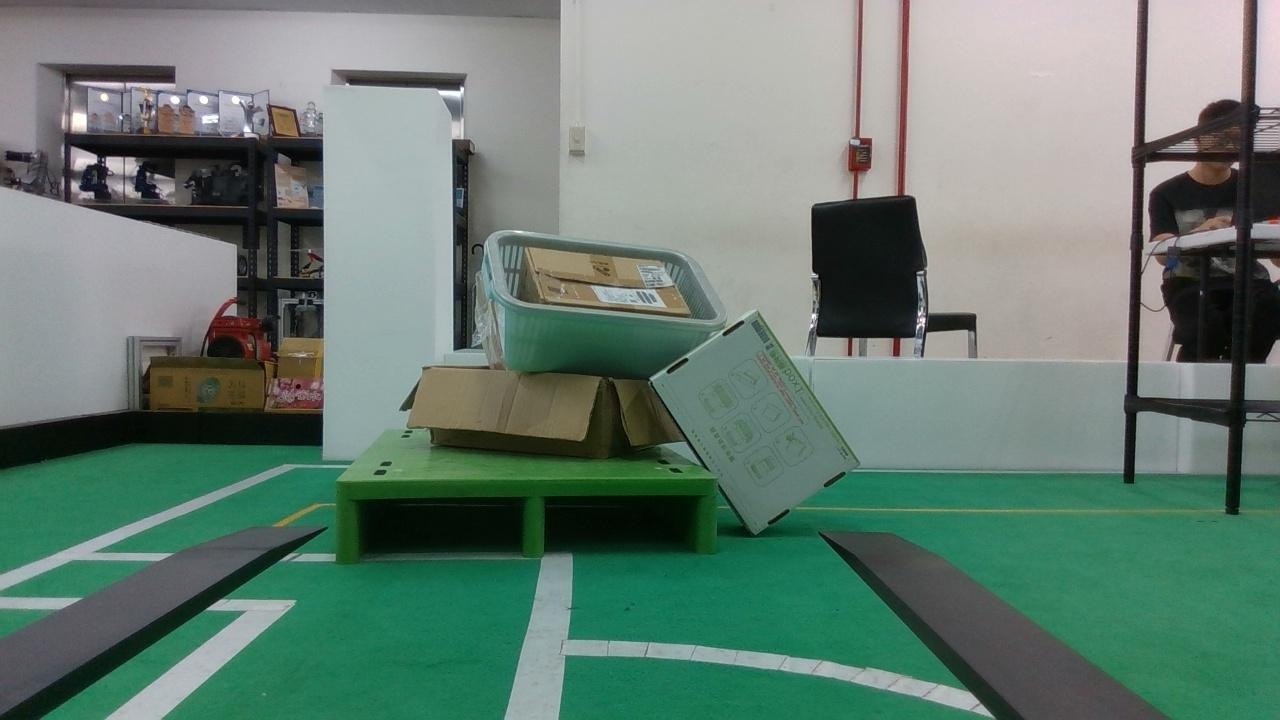Pallet: (336, 476, 718, 561)
